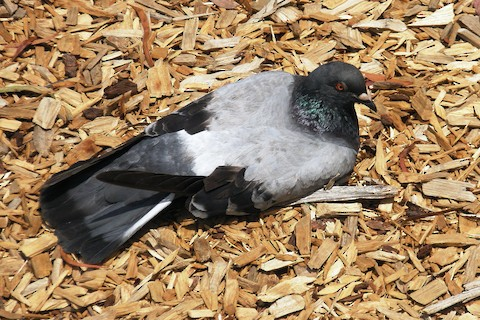pigeon: (36, 57, 388, 276)
